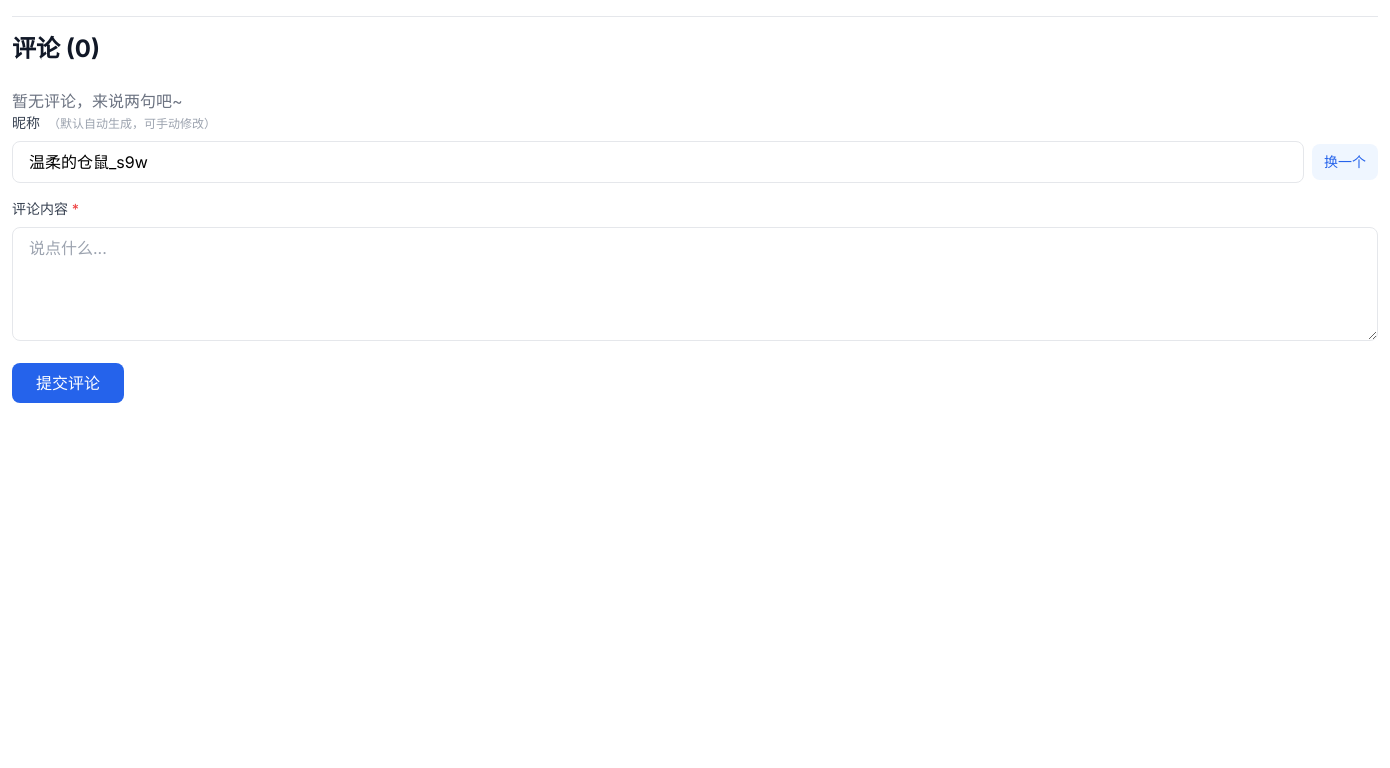
Scenario: Comments Component › 提交成功后应清空表单并刷新评论
Expected: the text "暂无评论，来说两句吧~" is shown, [12,91,183,111]
Type "测试评论" into the text box with placeholder "说点什么..." at [695, 284], box [12,227,1378,341]
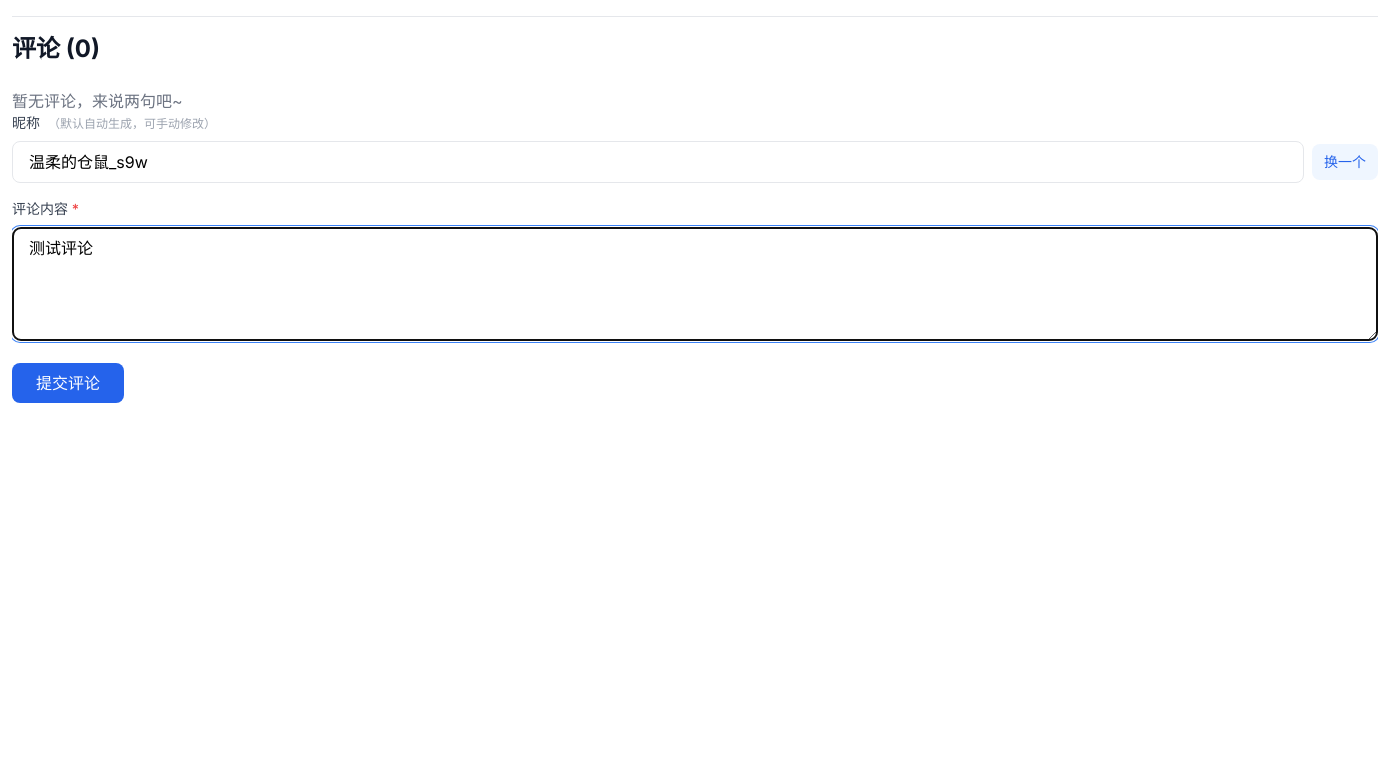
Click the button "提交评论" at [68, 383], box [12,363,124,403]
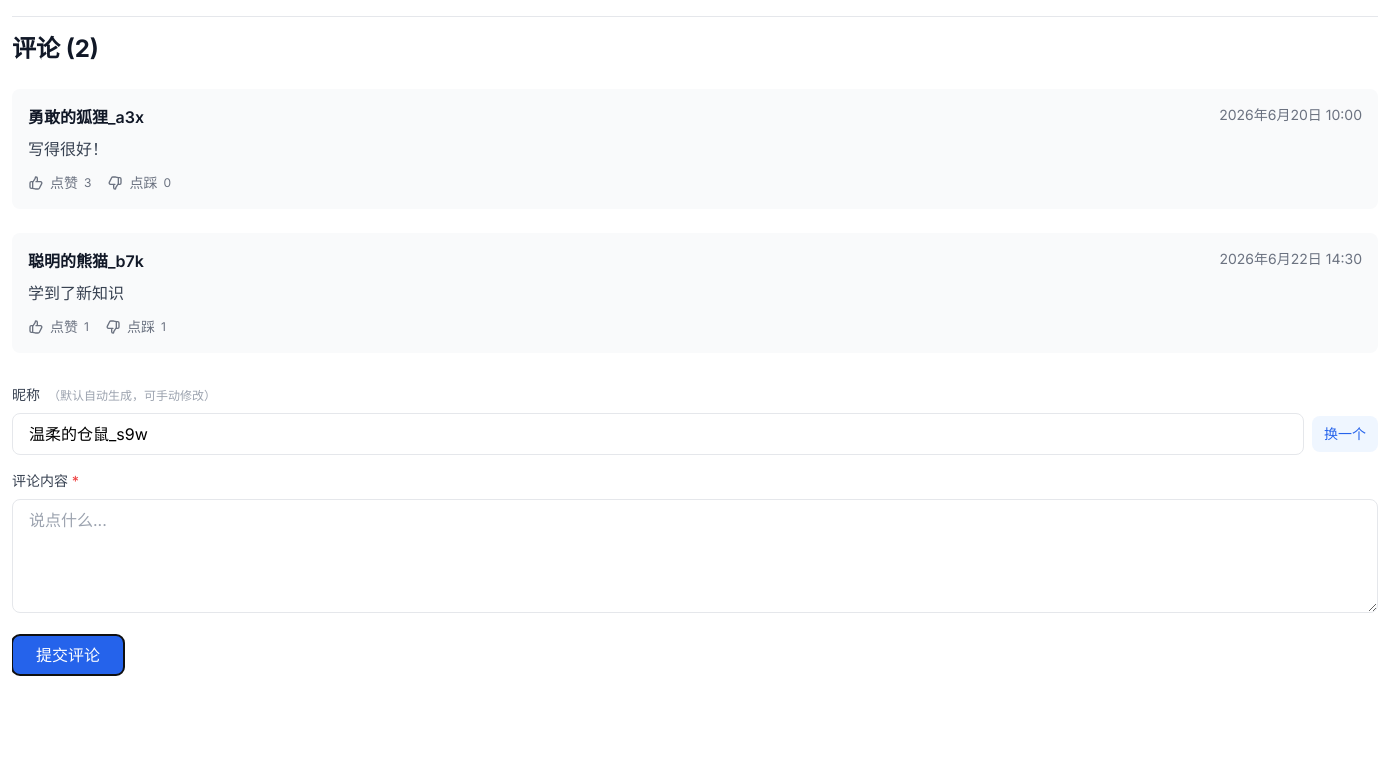
Expected: the text "勇敢的狐狸_a3x" is shown, [28,105,144,129]
